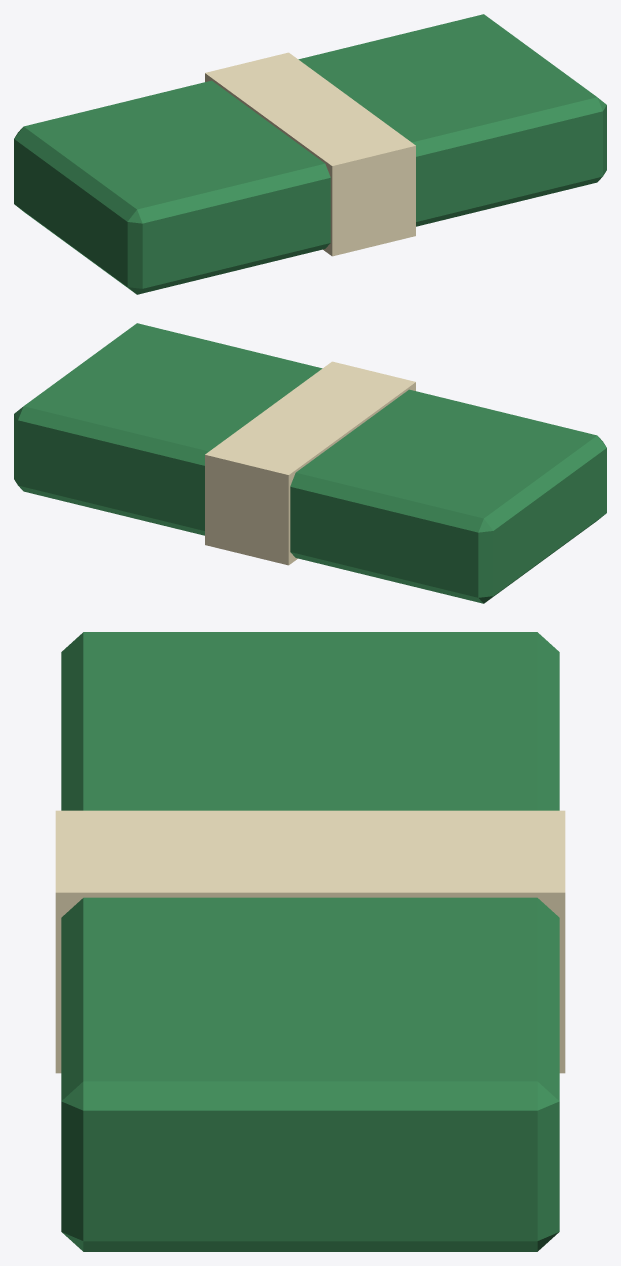
The model's file is maco.glb.
The picture shows the model from 3 angles, top to bottom: view 1: azimuth 30°, elevation 25°; view 2: azimuth 150°, elevation 25°; view 3: azimuth 270°, elevation 25°; orthographic projection. The views are drawn at different scales.
Visible parts, largest first — view 1: Maco; view 2: Maco; view 3: Maco.
Boxes of the visible parts, x1,y1,x2,y2 form: Maco: (14, 14, 606, 294); Maco: (14, 323, 606, 603); Maco: (55, 632, 565, 1251).
Bounding box in the file's own units: 0.2 × 0.036 × 0.092.
